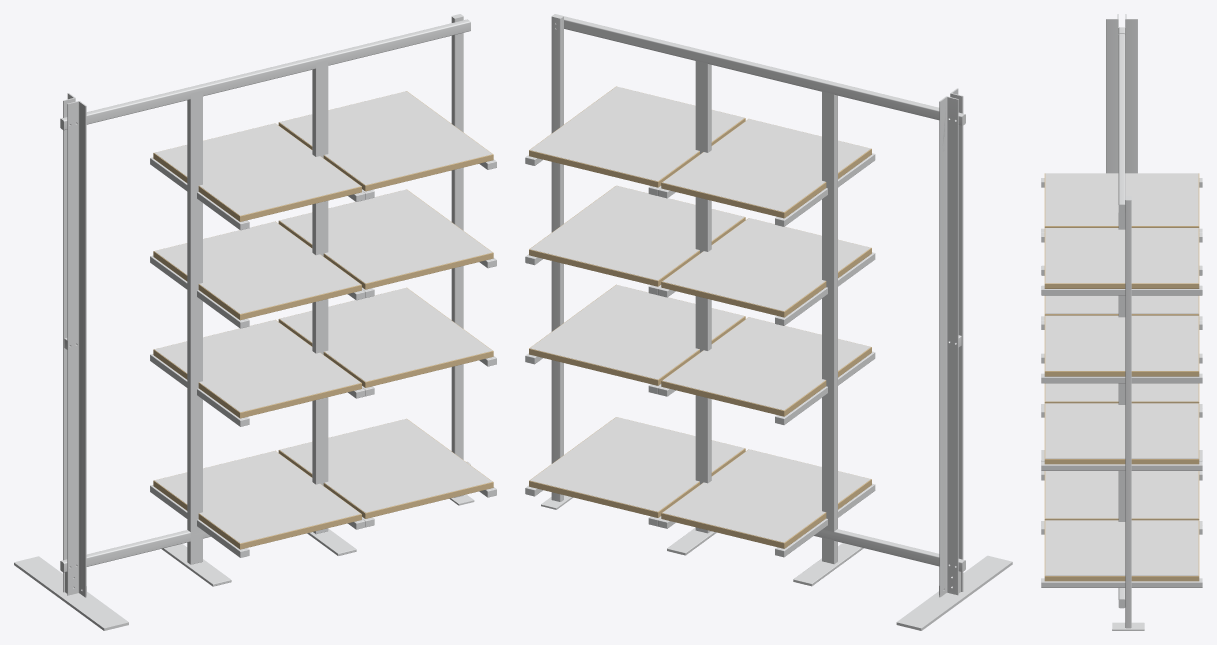
3 renders of one model, left to right at view 1: azimuth 30°, elevation 25°; view 2: azimuth 150°, elevation 25°; view 3: azimuth 270°, elevation 25°, orthographic. The views are drawn at different scales.
Parts seen in each view (by area): view 1: s1.3.top, s1.0.top, s1.1.top, s1.2.top, 026_105-06-001-10_Default_As_Machined_, s0.3.top, s0.0.top, s0.1.top, s0.2.top, post0, 003_part, post1 (+17 smaller); view 2: s1.0.top, s1.3.top, s1.2.top, s1.1.top, 000_105-06-001-01_Default_As_Machined_, s0.0.top, s0.2.top, s0.3.top, s0.1.top, post0, 003_part, post1 (+17 smaller); view 3: s1.3.top, s1.0.top, s1.1.top, s1.2.top, s0.3.top, s0.0.top, 005_part, s0.1.top, s0.2.top, 000_105-06-001-01_Default_As_Machined_, 026_105-06-001-10_Default_As_Machined_, 003_part (+14 smaller).
Part boxes in pixels (x1=…): s1.3.top: x1=279, y1=91, x2=492, y2=185; s1.0.top: x1=280, y1=419, x2=492, y2=512; s1.1.top: x1=280, y1=288, x2=492, y2=381; s1.2.top: x1=279, y1=189, x2=492, y2=283; 026_105-06-001-10_Default_As_Machined_: x1=67, y1=101, x2=86, y2=597; s0.3.top: x1=154, y1=123, x2=360, y2=215; s0.0.top: x1=154, y1=451, x2=360, y2=543; s0.1.top: x1=154, y1=320, x2=360, y2=412; s0.2.top: x1=154, y1=221, x2=360, y2=313; post0: x1=187, y1=90, x2=202, y2=564; 003_part: x1=61, y1=19, x2=470, y2=129; post1: x1=312, y1=60, x2=328, y2=534; s1.0.top: x1=530, y1=417, x2=744, y2=511; s1.3.top: x1=530, y1=86, x2=744, y2=181; s1.2.top: x1=530, y1=185, x2=744, y2=280; s1.1.top: x1=530, y1=285, x2=744, y2=379; 000_105-06-001-01_Default_As_Machined_: x1=939, y1=96, x2=958, y2=597; s0.0.top: x1=662, y1=449, x2=870, y2=542; s0.2.top: x1=662, y1=218, x2=870, y2=311; s0.3.top: x1=662, y1=119, x2=870, y2=211; s0.1.top: x1=662, y1=317, x2=870, y2=410; post0: x1=822, y1=91, x2=837, y2=563; 003_part: x1=564, y1=16, x2=964, y2=125; post1: x1=695, y1=60, x2=711, y2=533; s1.3.top: x1=1045, y1=228, x2=1198, y2=283; s1.0.top: x1=1045, y1=520, x2=1198, y2=575; s1.1.top: x1=1045, y1=403, x2=1198, y2=458; s1.2.top: x1=1045, y1=315, x2=1198, y2=370; s0.3.top: x1=1045, y1=173, x2=1198, y2=225; s0.0.top: x1=1045, y1=471, x2=1198, y2=518; 005_part: x1=1125, y1=200, x2=1131, y2=627; s0.1.top: x1=1045, y1=383, x2=1198, y2=401; s0.2.top: x1=1045, y1=295, x2=1198, y2=313; 000_105-06-001-01_Default_As_Machined_: x1=1125, y1=14, x2=1137, y2=173; 026_105-06-001-10_Default_As_Machined_: x1=1106, y1=14, x2=1118, y2=173; 003_part: x1=1118, y1=27, x2=1125, y2=204.
Bounding box in the file's own units: 1.31 × 1.51 × 0.5.
